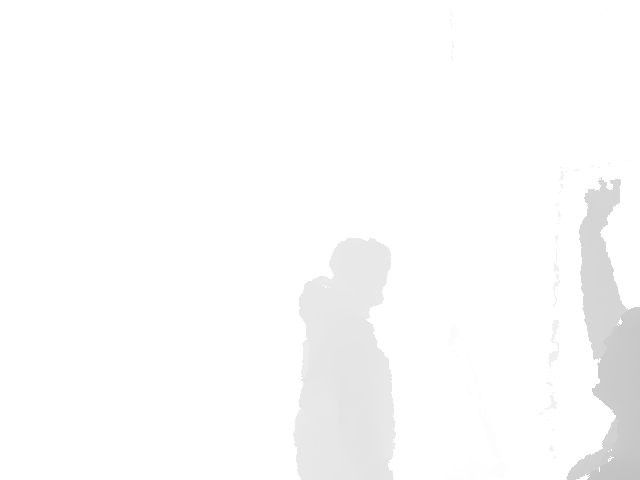hand: (580, 178, 621, 227)
head: (593, 304, 640, 422), (329, 235, 391, 311)
person: (292, 235, 397, 480), (562, 178, 640, 480)
